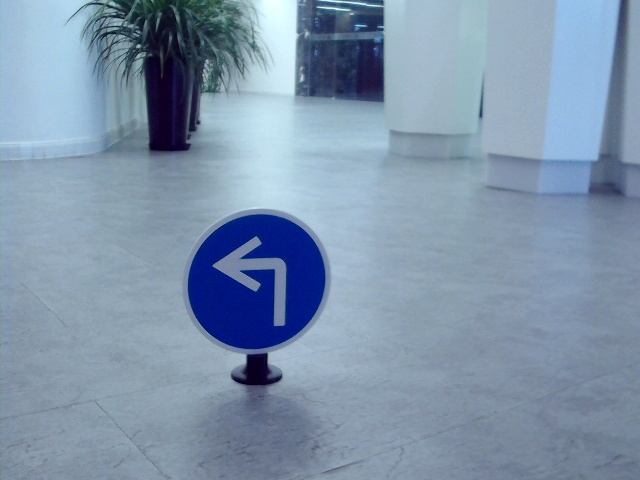turn_left: (206, 231, 290, 327)
